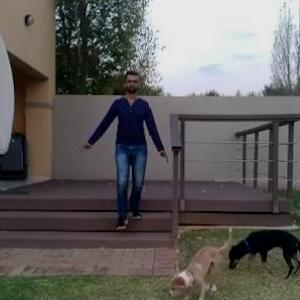land: (86, 77, 168, 230)
